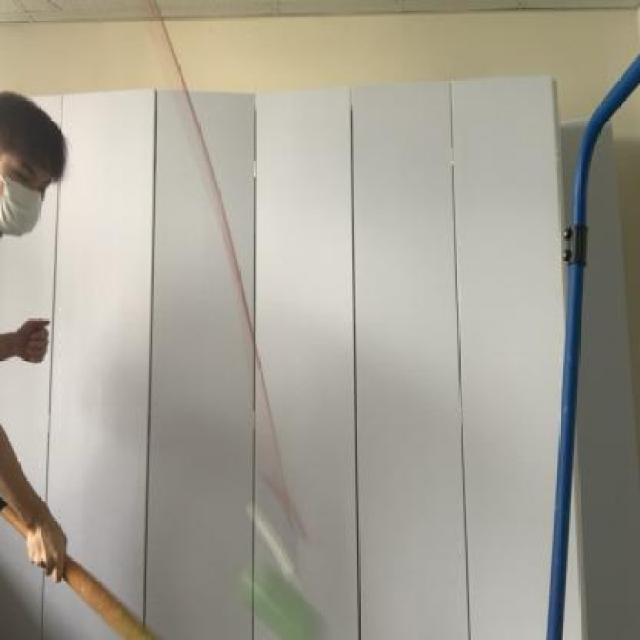baseball: (238, 552, 327, 640)
